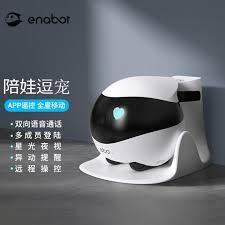maru: (78, 60, 218, 198)
